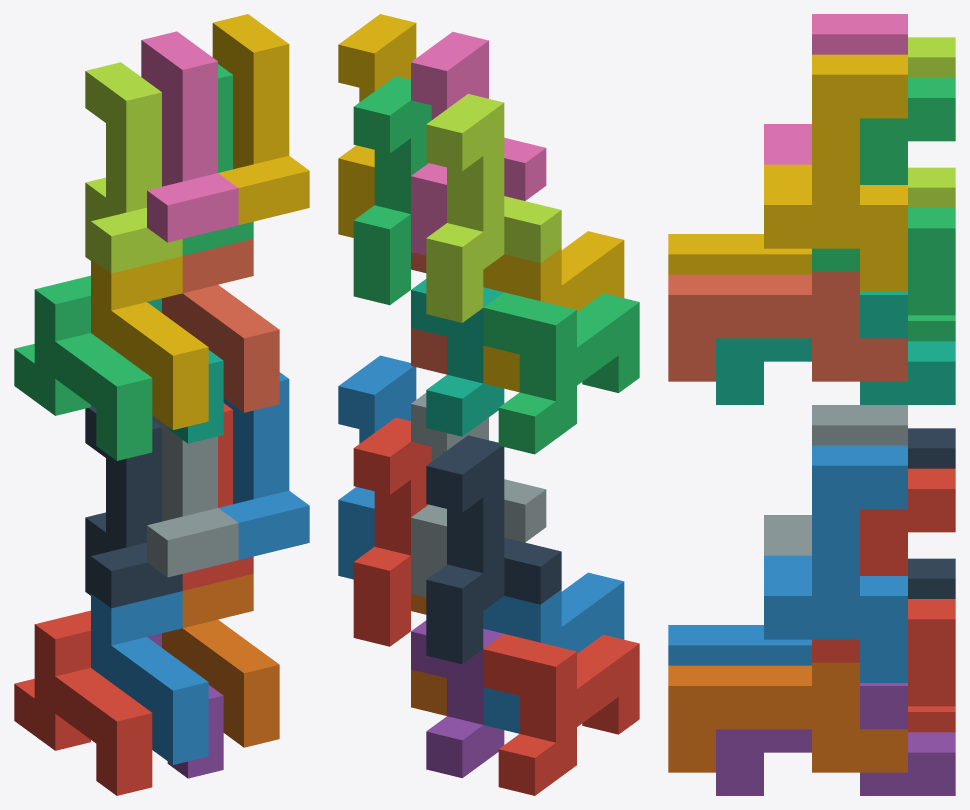
The model's file is tiling.obj.
The picture shows the model from 3 angles, left to right: view 1: azimuth 30°, elevation 25°; view 2: azimuth 150°, elevation 25°; view 3: azimuth 270°, elevation 25°; orthographic projection. The views are drawn at different scales.
Visible parts, largest first — view 1: copy_1_domain_3, copy_1_domain_1, copy_2_domain_4, copy_2_domain_3, copy_2_domain_8, copy_1_domain_2, copy_1_domain_4, copy_1_domain_8, copy_1_domain_6, copy_2_domain_1, copy_2_domain_6, copy_2_domain_2 (+4 smaller); view 2: copy_2_domain_3, copy_2_domain_1, copy_1_domain_1, copy_1_domain_3, copy_2_domain_5, copy_2_domain_7, copy_2_domain_4, copy_1_domain_2, copy_1_domain_4, copy_2_domain_8, copy_2_domain_6, copy_1_domain_5 (+4 smaller); view 3: copy_2_domain_6, copy_2_domain_8, copy_1_domain_6, copy_1_domain_8, copy_2_domain_5, copy_2_domain_7, copy_1_domain_5, copy_1_domain_7, copy_2_domain_2, copy_2_domain_4, copy_1_domain_2, copy_1_domain_4 (+4 smaller).
Part boxes in pixels (left/top/right/bottom): copy_1_domain_3: left=14, top=275, right=152, bottom=460; copy_1_domain_1: left=14, top=610, right=152, bottom=795; copy_2_domain_4: left=141, top=31, right=238, bottom=242; copy_2_domain_3: left=85, top=62, right=182, bottom=273; copy_2_domain_8: left=212, top=14, right=309, bottom=224; copy_1_domain_2: left=91, top=591, right=208, bottom=764; copy_1_domain_4: left=91, top=256, right=208, bottom=429; copy_1_domain_8: left=162, top=239, right=279, bottom=412; copy_1_domain_6: left=162, top=573, right=279, bottom=747; copy_2_domain_1: left=85, top=405, right=182, bottom=608; copy_2_domain_6: left=218, top=372, right=309, bottom=559; copy_2_domain_2: left=147, top=415, right=238, bottom=577; copy_2_domain_3: left=426, top=94, right=561, bottom=322; copy_2_domain_1: left=426, top=435, right=561, bottom=664; copy_1_domain_1: left=483, top=634, right=639, bottom=795; copy_1_domain_3: left=483, top=292, right=639, bottom=454; copy_2_domain_5: left=353, top=417, right=431, bottom=646; copy_2_domain_7: left=353, top=76, right=431, bottom=305; copy_2_domain_4: left=411, top=32, right=546, bottom=255; copy_1_domain_2: left=483, top=572, right=624, bottom=733; copy_1_domain_4: left=483, top=231, right=624, bottom=392; copy_2_domain_8: left=338, top=14, right=416, bottom=237; copy_2_domain_6: left=338, top=355, right=416, bottom=579; copy_1_domain_5: left=411, top=620, right=504, bottom=778; copy_2_domain_6: left=764, top=445, right=907, bottom=682; copy_2_domain_8: left=764, top=54, right=907, bottom=291; copy_1_domain_6: left=668, top=662, right=907, bottom=772; copy_1_domain_8: left=668, top=271, right=907, bottom=381; copy_2_domain_5: left=812, top=468, right=955, bottom=706; copy_2_domain_7: left=812, top=77, right=955, bottom=315; copy_1_domain_5: left=716, top=683, right=955, bottom=795; copy_1_domain_7: left=716, top=292, right=955, bottom=404; copy_2_domain_2: left=764, top=405, right=907, bottom=555; copy_2_domain_4: left=764, top=14, right=907, bottom=164; copy_1_domain_2: left=668, top=625, right=811, bottom=665; copy_1_domain_4: left=668, top=234, right=811, bottom=274.
Bounding box in the file's own units: 6 × 18 × 6.
